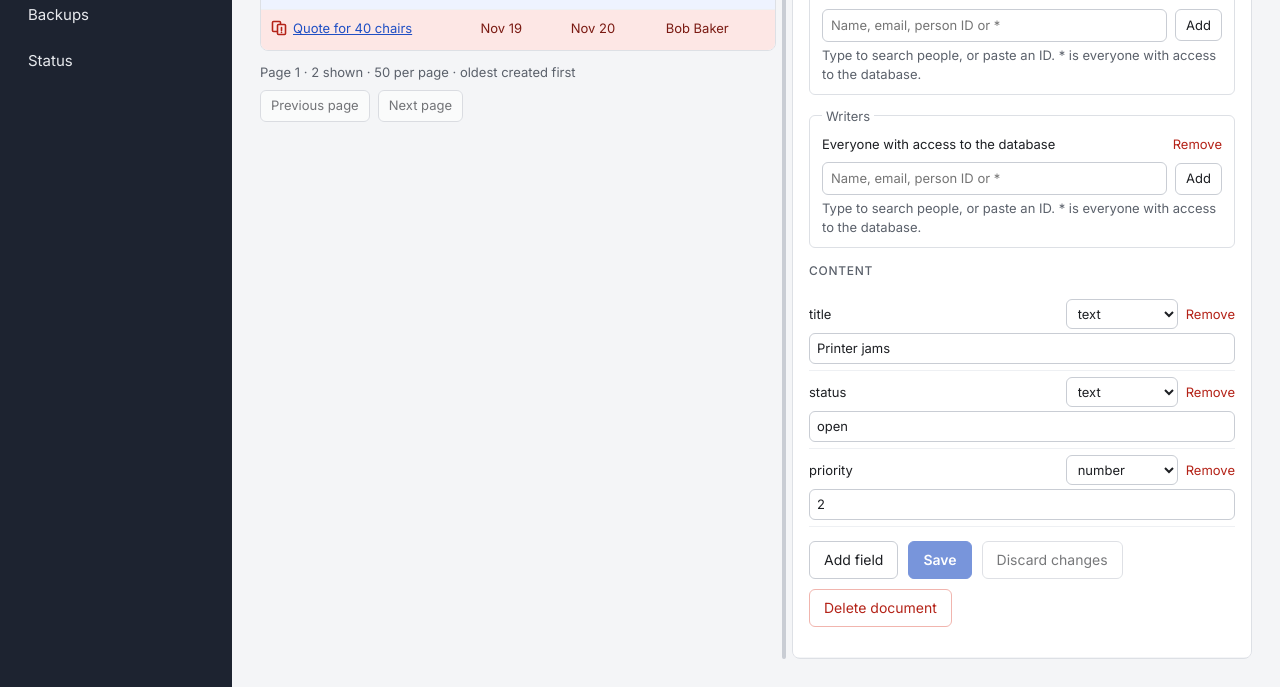
it: the inspector › refuses a type change that would guess, and saves a date as a date
(page scrolled)
Select "number" in the dropdown named "Type of status" at (1122, 392), box [1066,377,1178,407]
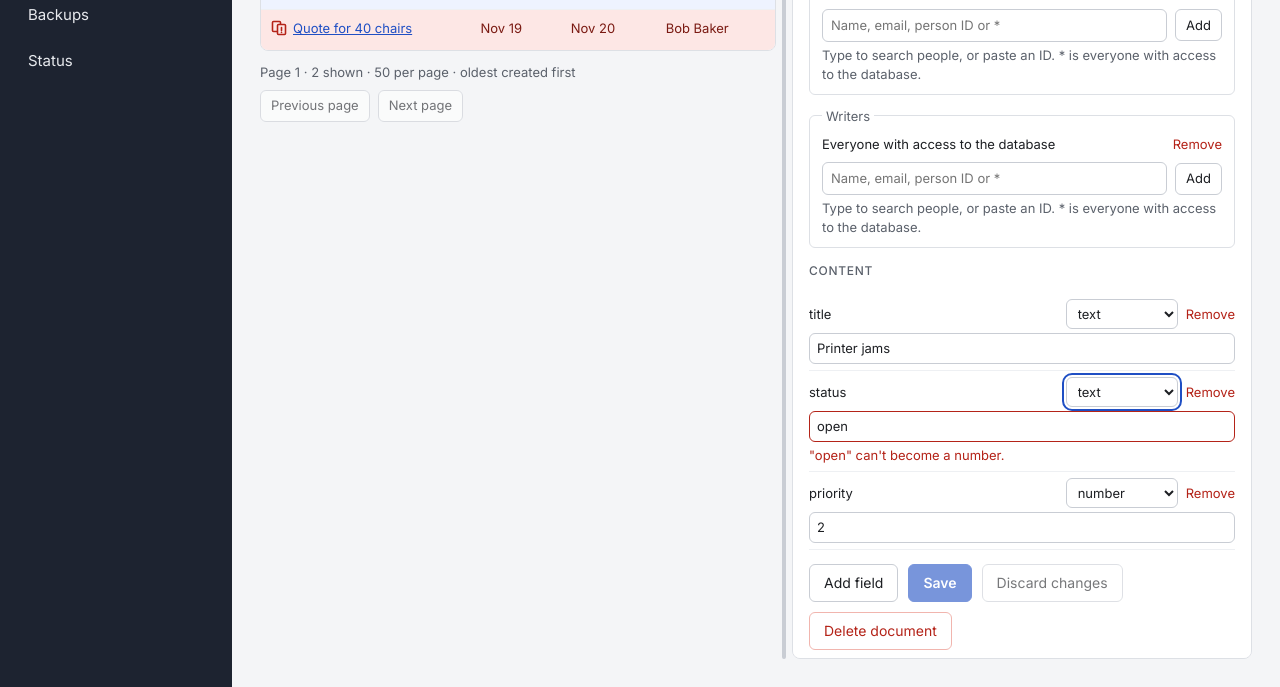
Result: the message reads "\"open\" can't become a number." at [809,447,1004,463]
Click the button "Add field" at (854, 583), box [809,564,898,602]
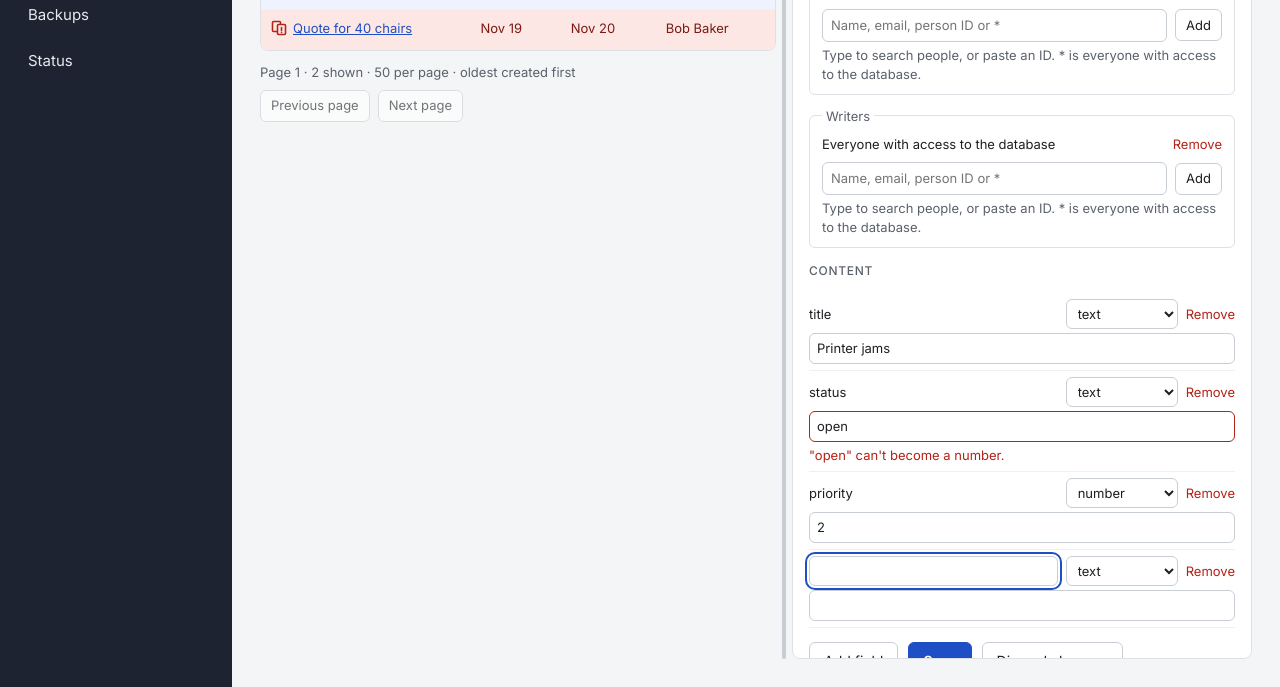
Type "due" into the field named "Name of the new field" at (933, 571), box [809,556,1058,586]
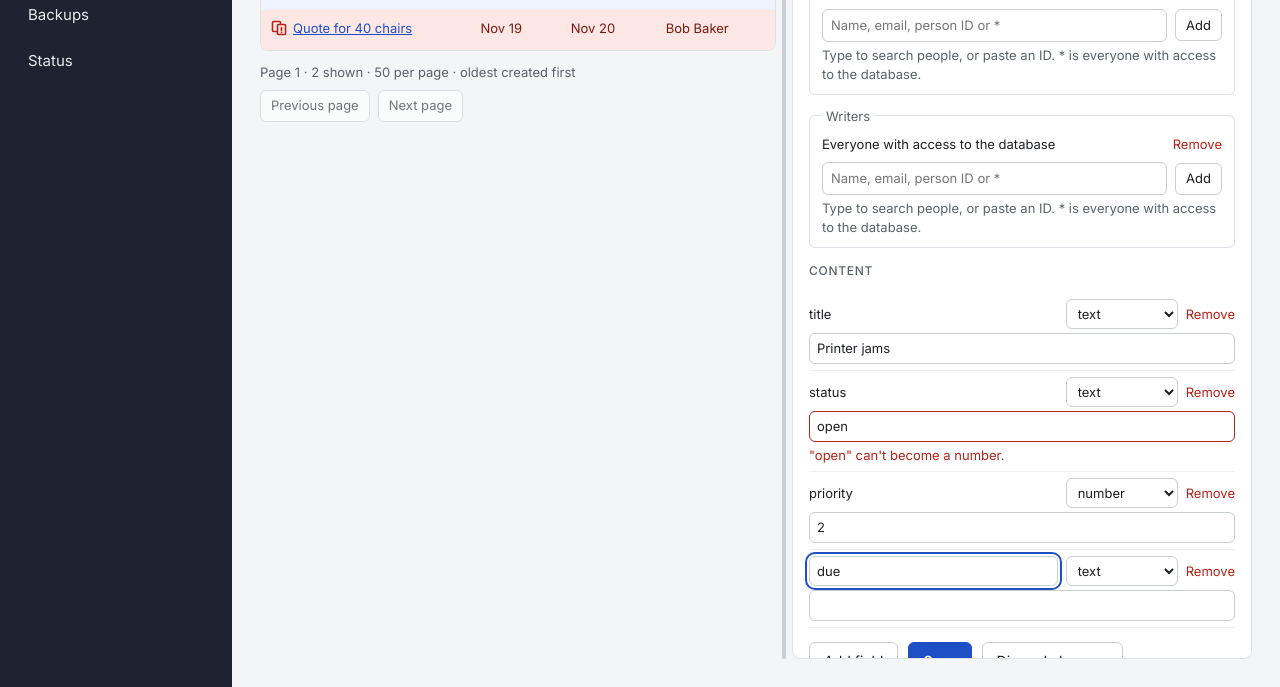
Select "date" in the dropdown named "Type of due" at (1122, 570), box [1066,556,1178,586]
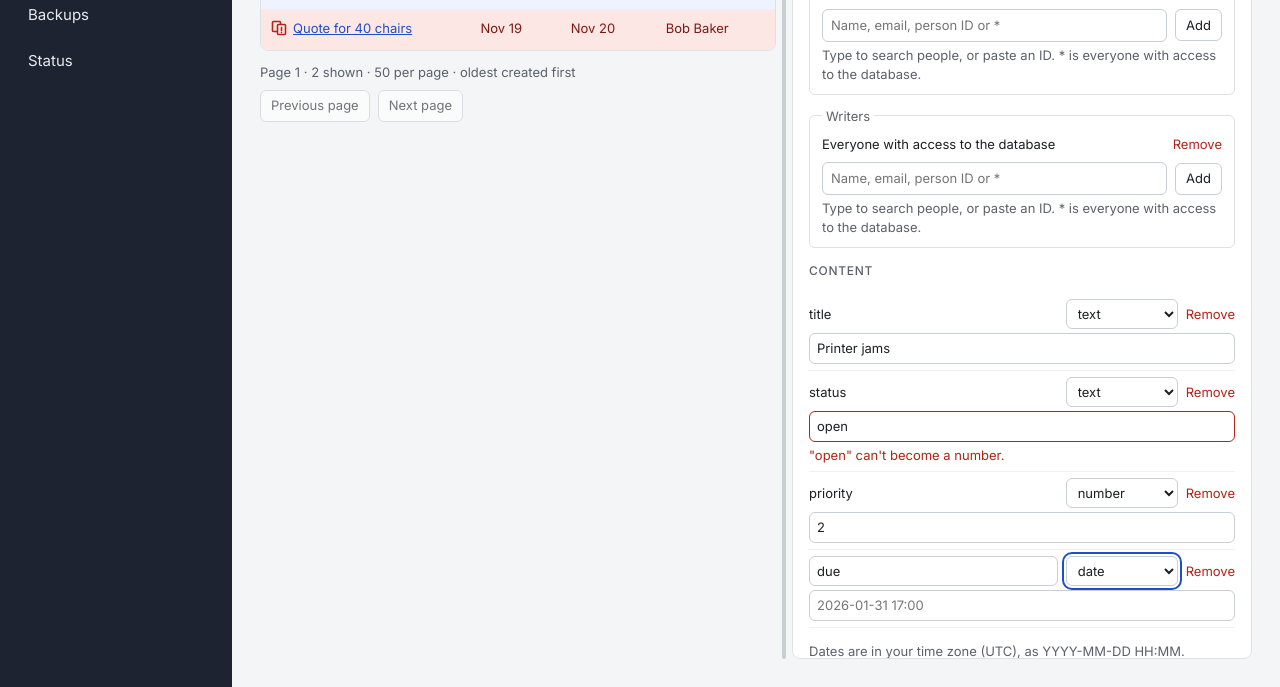
Type "2026-11-24T17:00:00Z" into the field named "Value of due" at (1022, 606), box [809,590,1235,621]
(page scrolled)
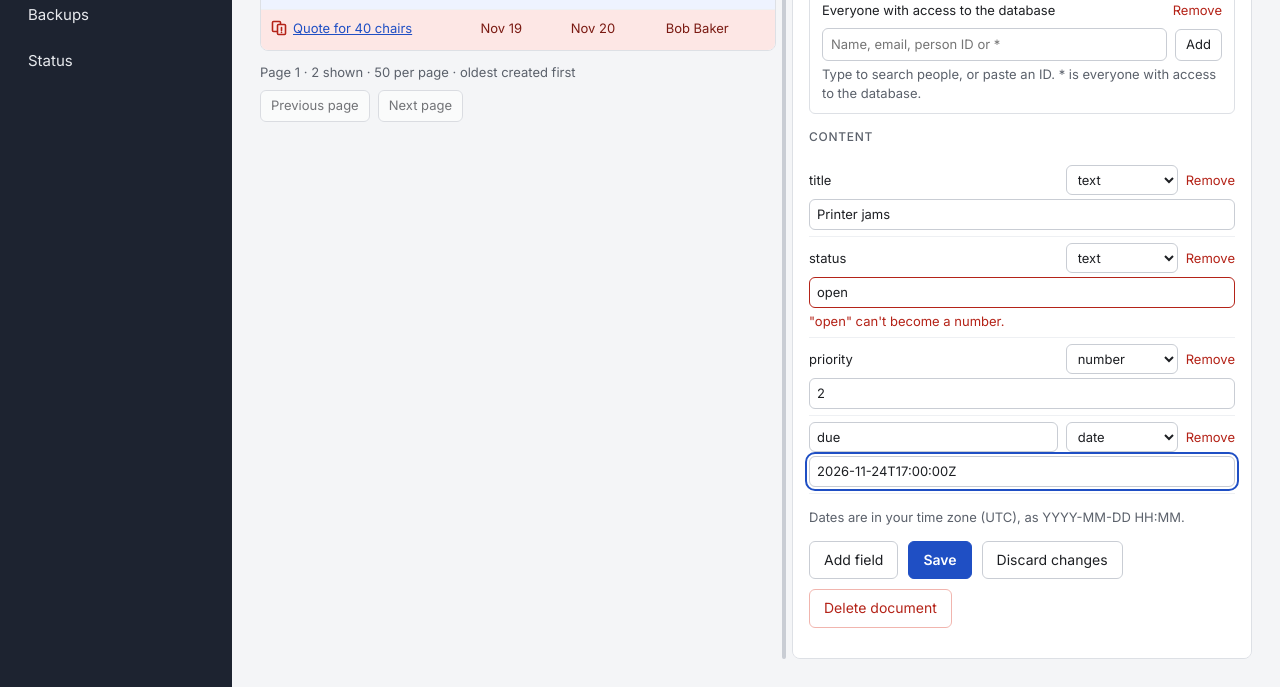
Click the button "Save" at (940, 560), box [908,541,972,579]
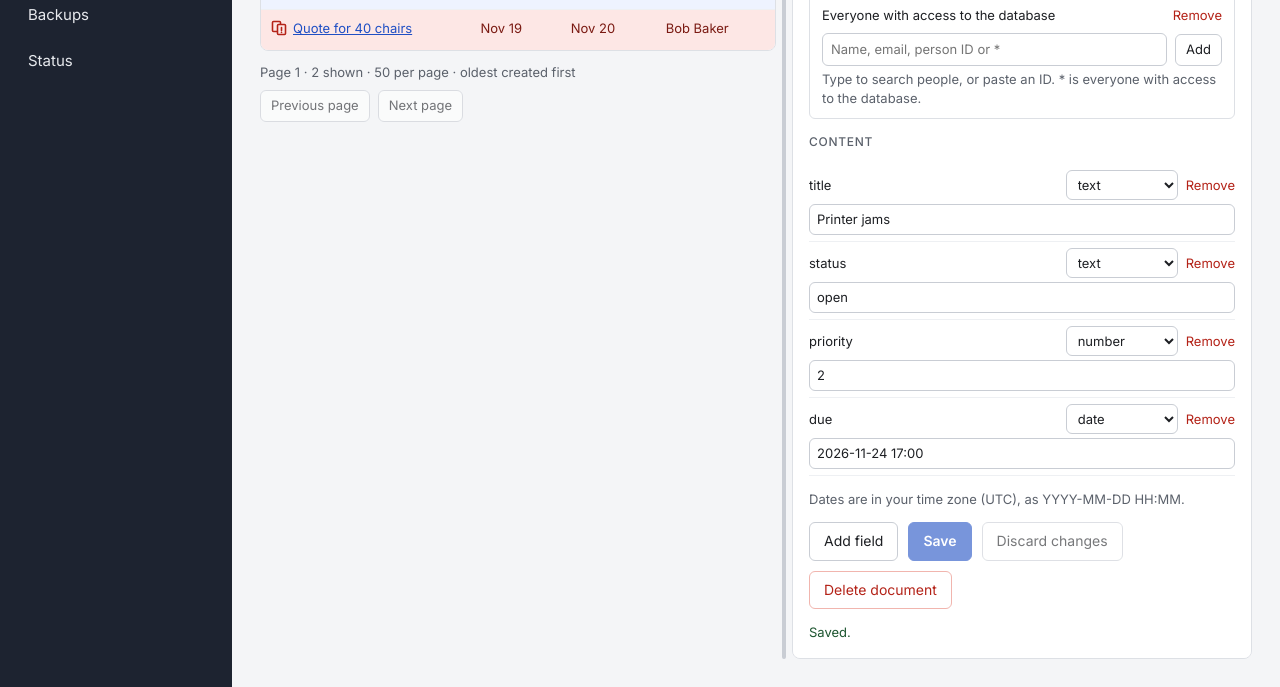
Result: the text "Saved." is shown at [809,624,851,640]
